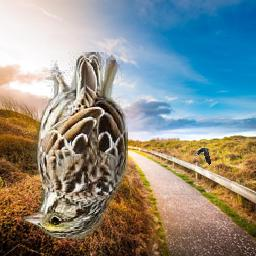Crow: (195, 147, 212, 165)
Sparrow: (18, 53, 128, 240)
